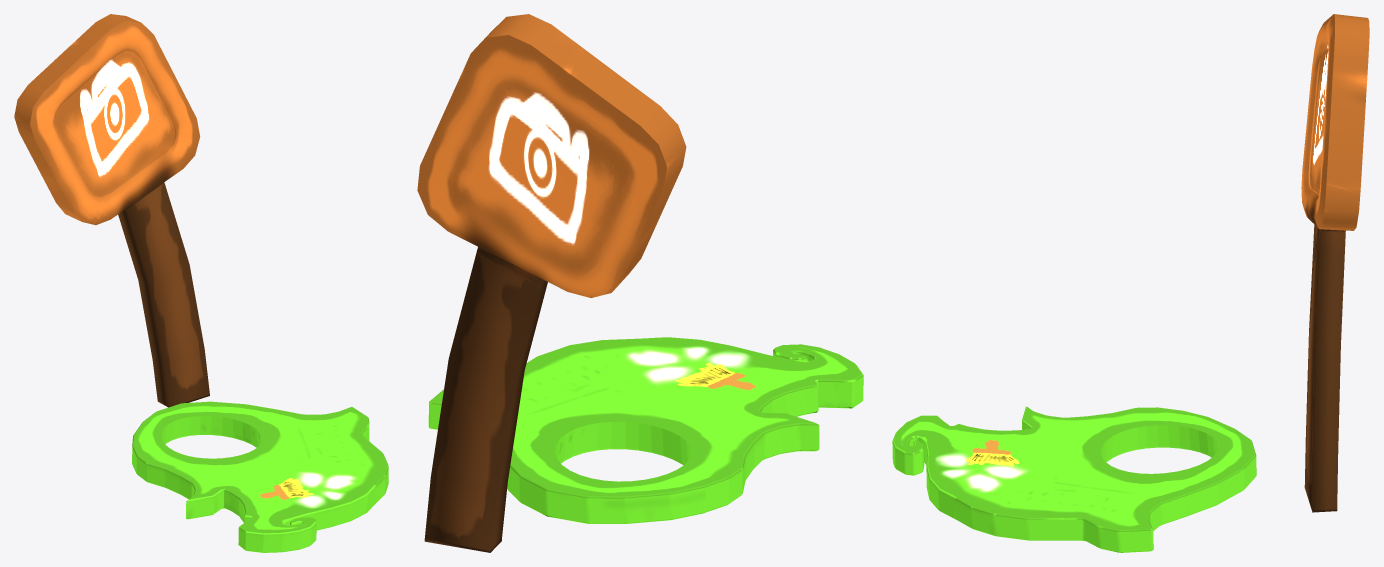
Rendered from Empty_Group_PhotoStart_Props_Lvl_00.fbx.
3 renders of one model, left to right at view 1: azimuth 30°, elevation 25°; view 2: azimuth 150°, elevation 25°; view 3: azimuth 270°, elevation 25°, orthographic. The views are drawn at different scales.
Parts seen in each view (by area): view 1: Sign_Photo_BoothLVL00, Ghost_Sign_Painted_StartProp_Lvl_00; view 2: Sign_Photo_BoothLVL00, Ghost_Sign_Painted_StartProp_Lvl_00; view 3: Ghost_Sign_Painted_StartProp_Lvl_00, Sign_Photo_BoothLVL00.
Boxes of the visible parts, x1,y1,x2,y2 form: Sign_Photo_BoothLVL00: (14, 14, 209, 407); Ghost_Sign_Painted_StartProp_Lvl_00: (132, 401, 388, 552); Sign_Photo_BoothLVL00: (417, 14, 686, 552); Ghost_Sign_Painted_StartProp_Lvl_00: (428, 337, 863, 523); Ghost_Sign_Painted_StartProp_Lvl_00: (892, 406, 1256, 552); Sign_Photo_BoothLVL00: (1301, 14, 1369, 512).
Bounding box in the file's own units: 0.4938 × 0.718 × 0.6845.
2 materials, 2 textured.
